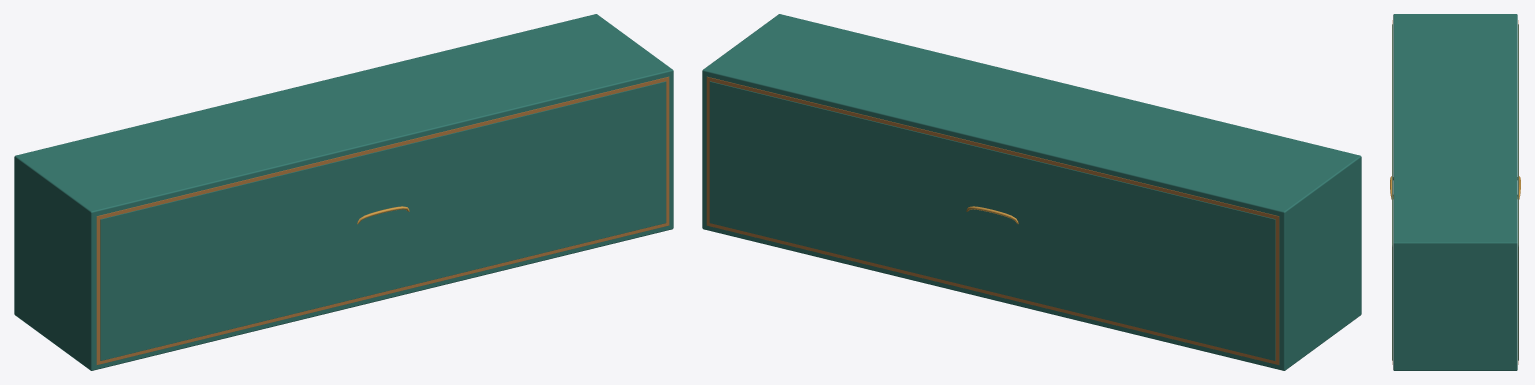
The model's file is drawer-two-base-light.glb.
The picture shows the model from 3 angles, left to right: view 1: azimuth 30°, elevation 25°; view 2: azimuth 150°, elevation 25°; view 3: azimuth 270°, elevation 25°; orthographic projection. The views are drawn at different scales.
Visible parts, largest first — view 1: teal, wood; view 2: teal, wood; view 3: teal, wood.
Boxes of the visible parts, <box> form: teal: <box>14,14,673,370</box>; wood: <box>96,76,669,364</box>; teal: <box>702,14,1361,370</box>; wood: <box>706,76,1279,364</box>; teal: <box>1392,14,1518,370</box>; wood: <box>1392,20,1518,364</box>.
Size of the model in its own units: 34 by 8.9 by 8.21.
